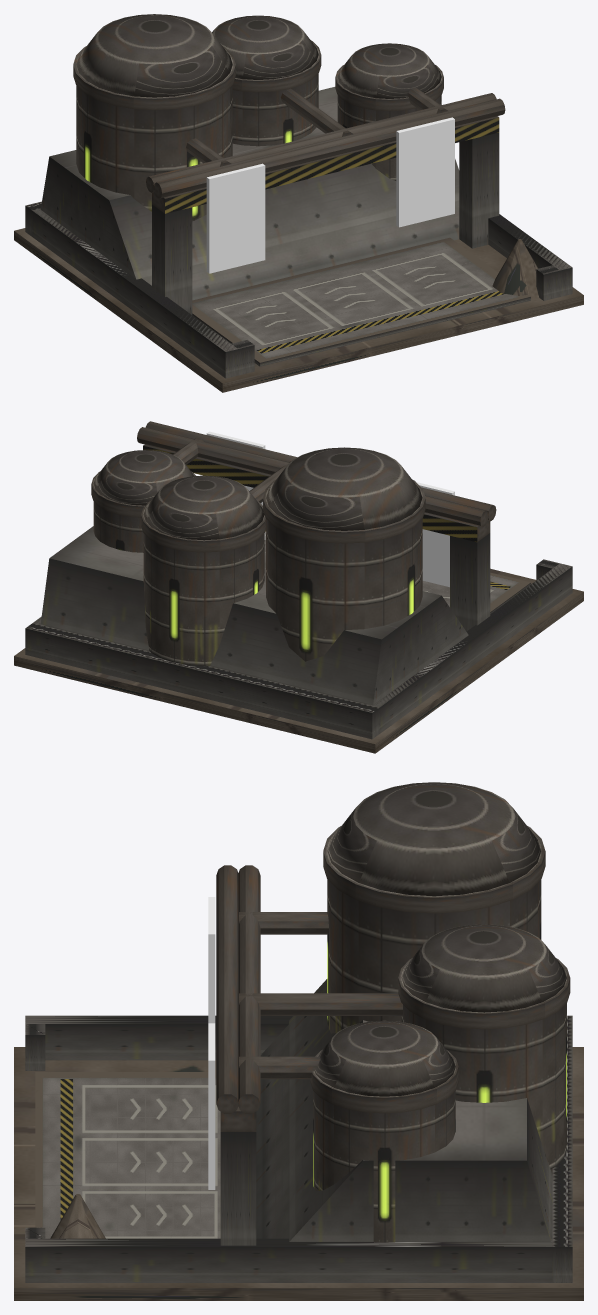
Rendered from supply-depot.glb.
3 renders of one model, top to bottom at view 1: azimuth 30°, elevation 25°; view 2: azimuth 150°, elevation 25°; view 3: azimuth 270°, elevation 25°, orthographic. The views are drawn at different scales.
Visible parts, largest first — view 1: supply-depot; view 2: supply-depot; view 3: supply-depot.
Part boxes in pixels (box(x1,y1,x2,y2)): supply-depot: box(14, 14, 583, 392); supply-depot: box(14, 421, 583, 753); supply-depot: box(14, 782, 583, 1300).
Bounding box in the file's own units: 4 × 2.47 × 4.
Materials: 2 (1 with a texture image).
